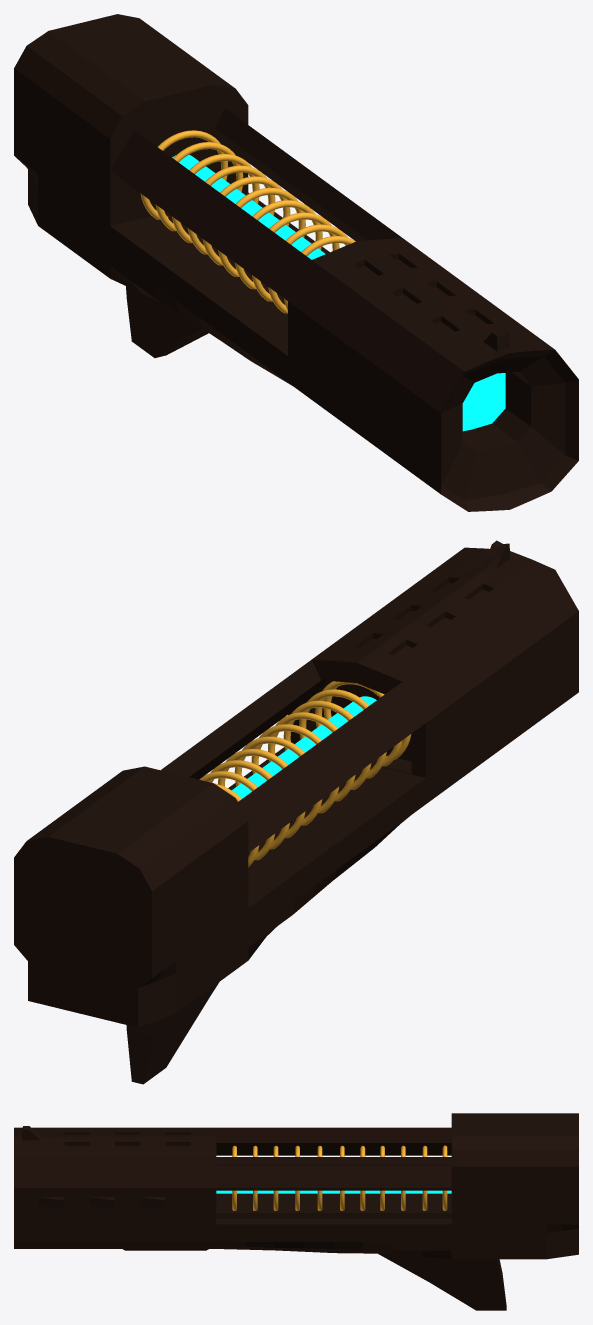
Rendered from RaygunModelZ.fbx.
3 views of the same model, one above another, from view 1: azimuth 30°, elevation 25°; view 2: azimuth 150°, elevation 25°; view 3: azimuth 270°, elevation 25° (orthographic). The views are drawn at different scales.
Visible parts, largest first — view 1: Cube, BezierCircle, Cylinder; view 2: Cube, BezierCircle, Cylinder; view 3: Cube, BezierCircle, Cylinder.
Part boxes in pixels (bbox=[...]): Cube: bbox=[14, 14, 578, 511]; BezierCircle: bbox=[140, 130, 355, 313]; Cylinder: bbox=[172, 154, 325, 259]; Cube: bbox=[14, 540, 578, 1084]; BezierCircle: bbox=[199, 681, 411, 867]; Cylinder: bbox=[232, 696, 376, 798]; Cube: bbox=[14, 1113, 578, 1310]; BezierCircle: bbox=[232, 1145, 447, 1210]; Cylinder: bbox=[216, 1190, 451, 1193].
Size of the model in its own units: 96.38 by 480 by 172.
